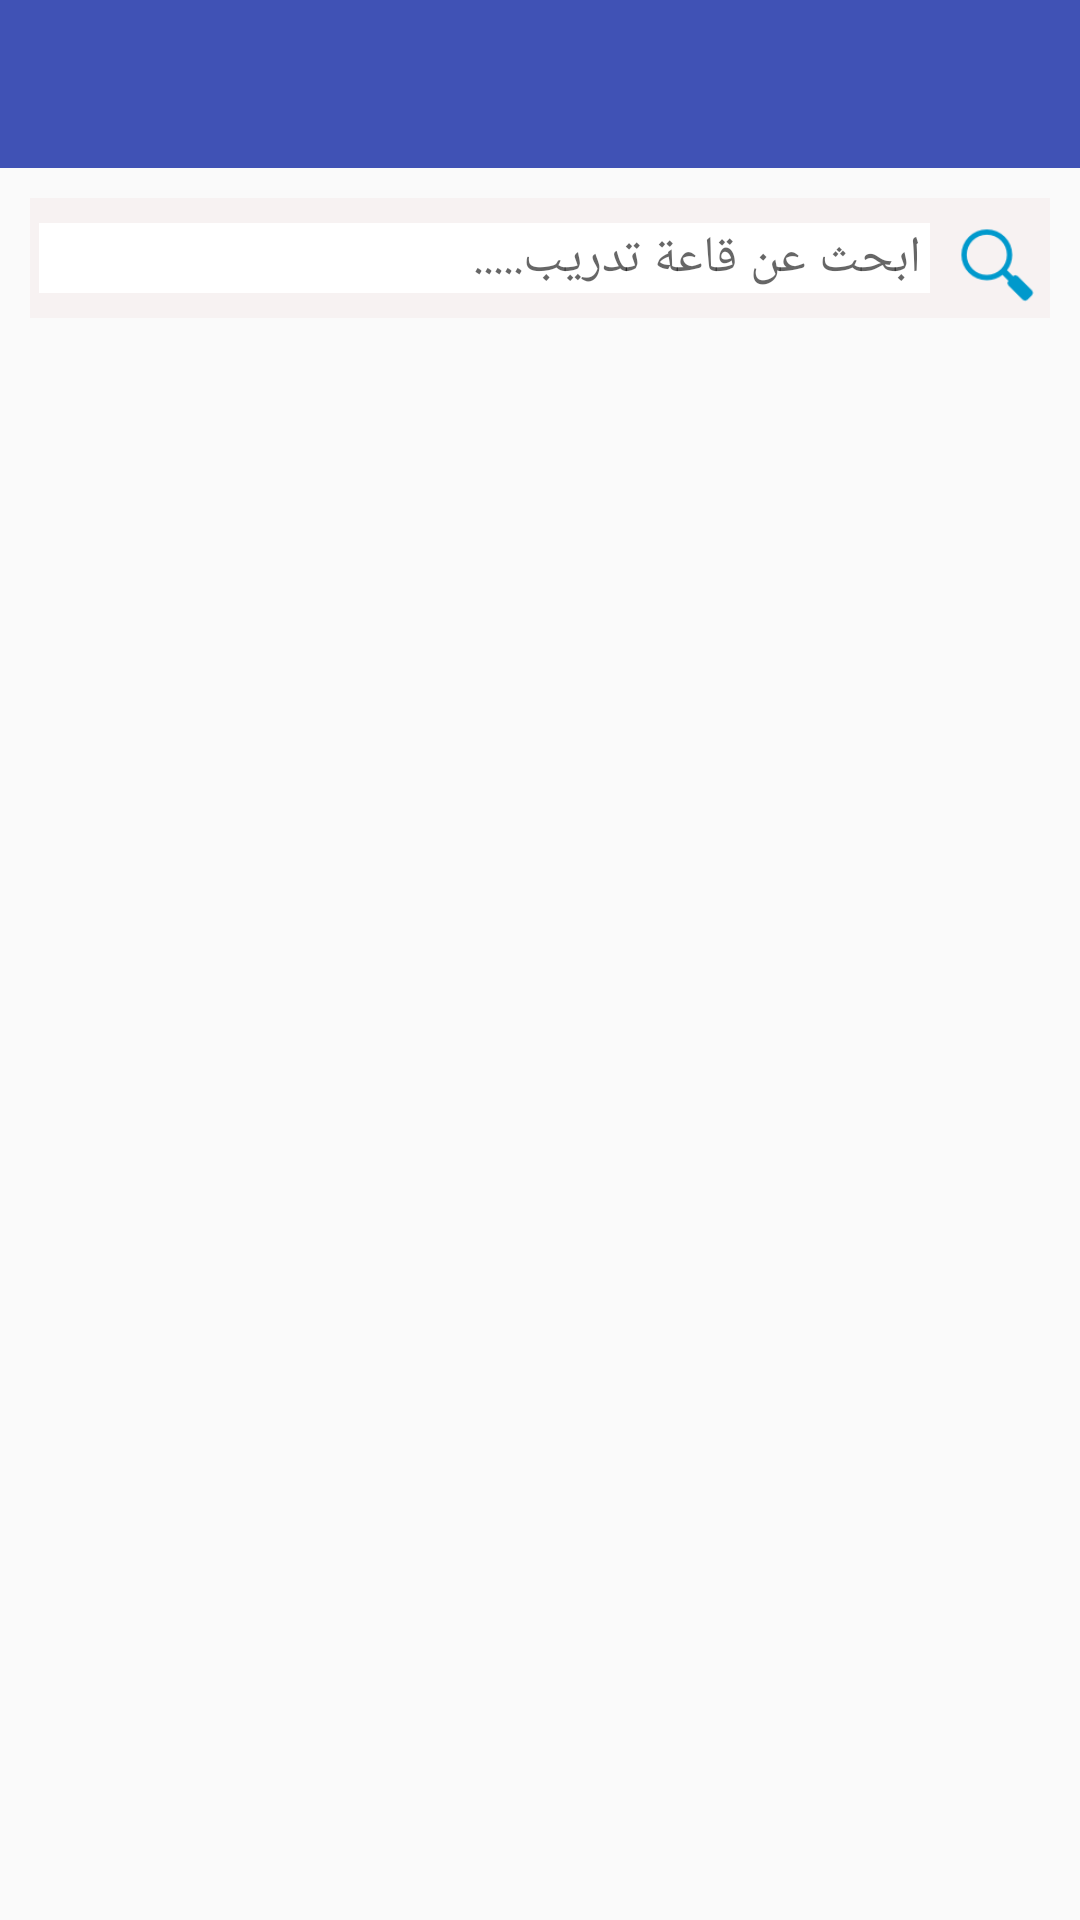

Icons on this 1080 × 1920 Android screen, each with its box as (x1, y1, x2, y2):
search: (961, 229, 1034, 301)
